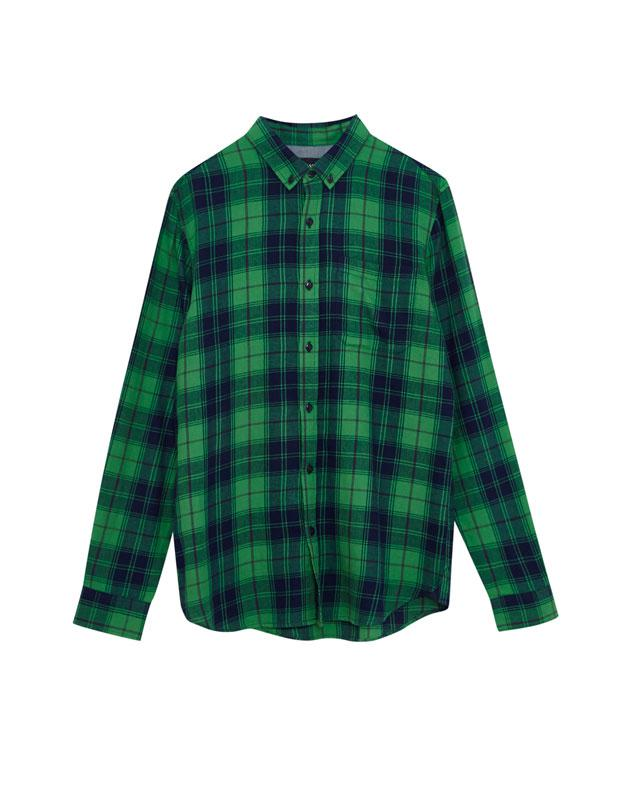teeshirt: (70, 107, 578, 658)
